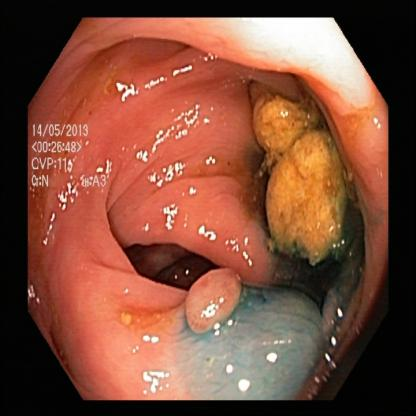Labels: (31, 110, 127, 202)
Polyps: (253, 99, 352, 254), (174, 249, 258, 340)
